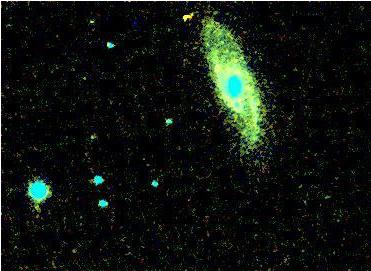star: (169, 1, 199, 31)
